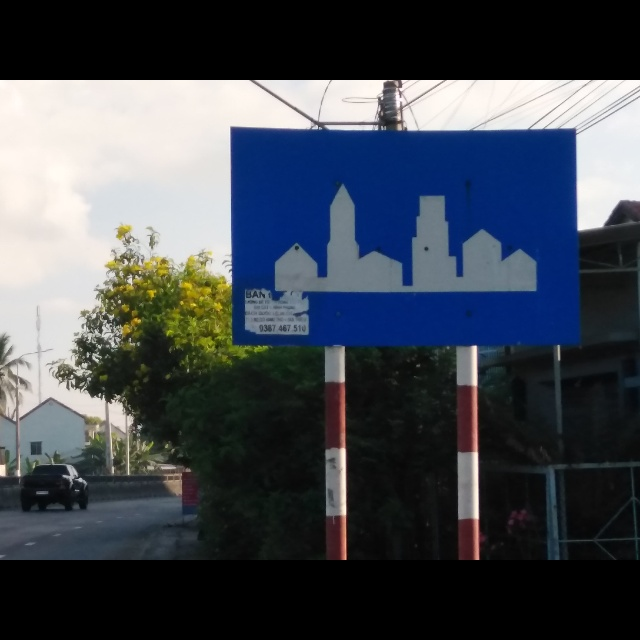Khu đông dân cư: (230, 125, 582, 347)
